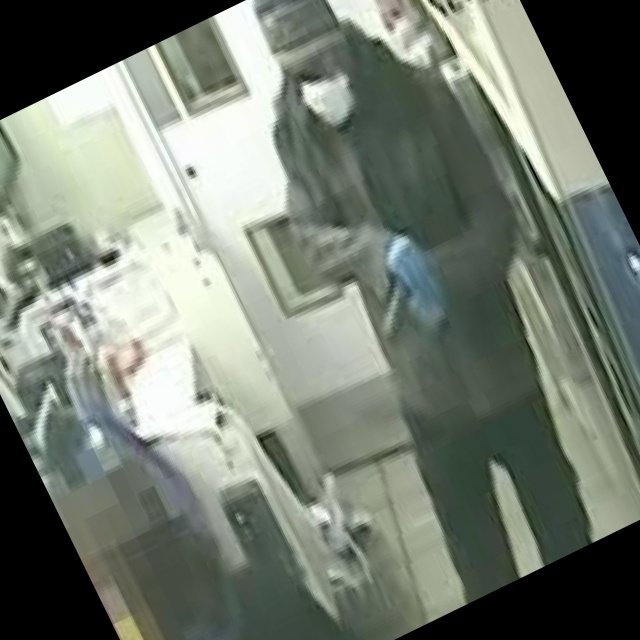gun: (352, 250, 450, 358)
